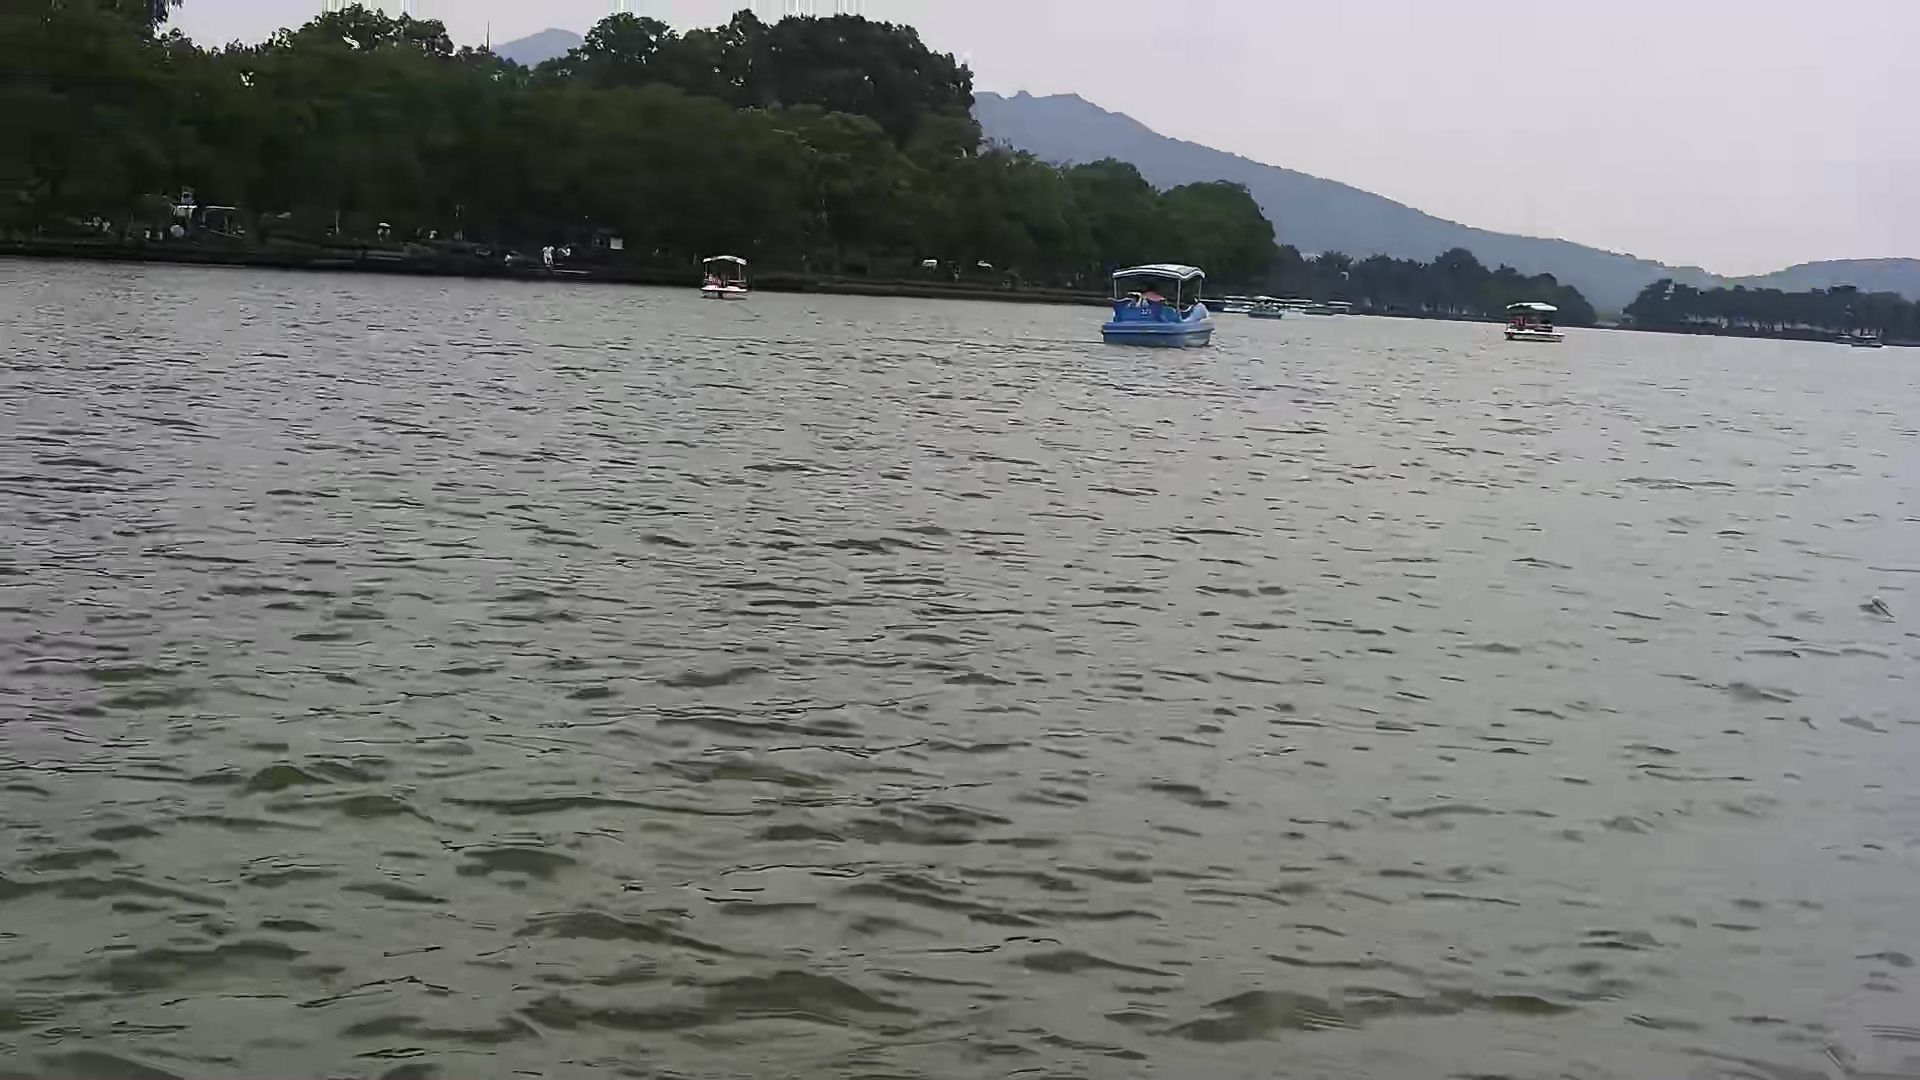boat: (1098, 253, 1215, 352), (1502, 291, 1565, 345), (696, 252, 754, 302)
